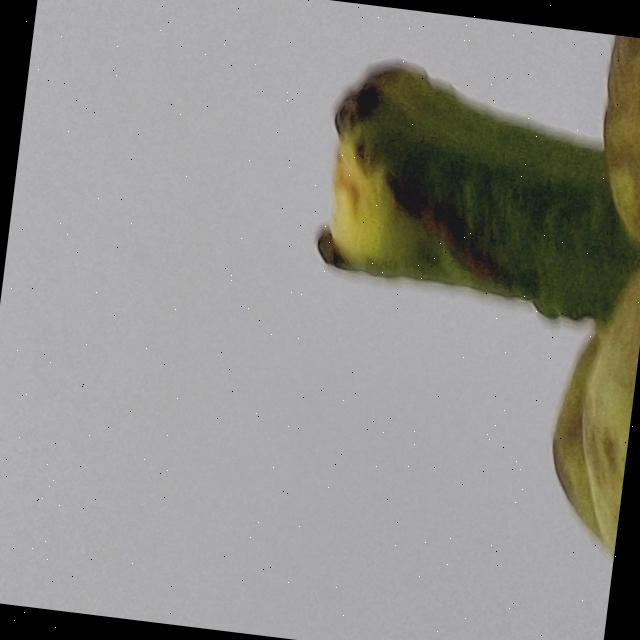mangosteen: (152, 0, 640, 640)
